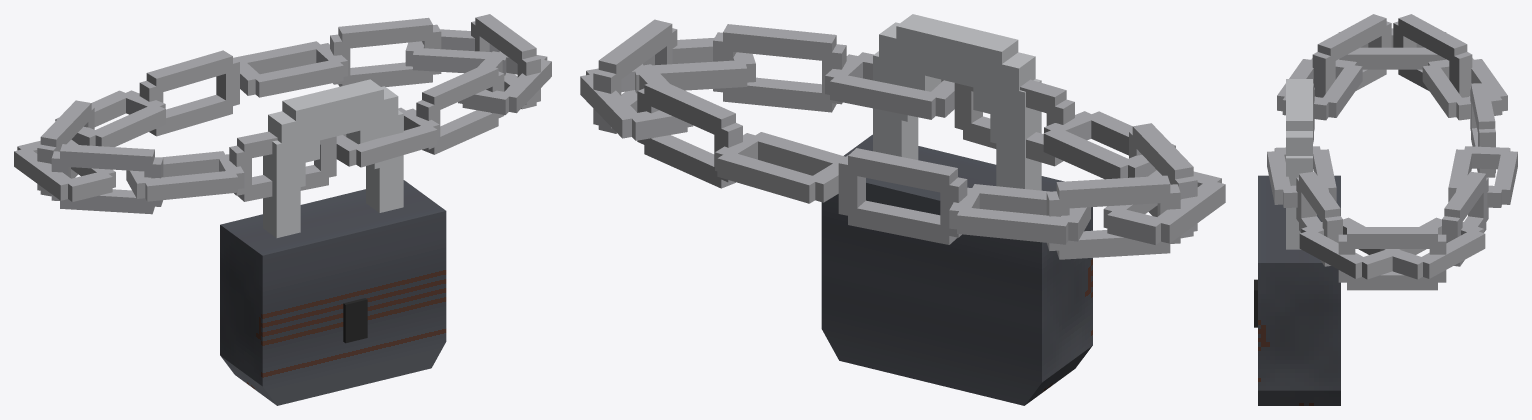
Rendered from gate_padlock.glb.
3 views of the same model, side by side, from view 1: azimuth 30°, elevation 25°; view 2: azimuth 150°, elevation 25°; view 3: azimuth 270°, elevation 25° (orthographic). The views are drawn at different scales.
Visible parts, largest first — view 1: Padlock, Chain; view 2: Chain, Padlock; view 3: Chain, Padlock.
Boxes of the visible parts, x1,y1,x2,y2 form: Padlock: (220,79,446,405); Chain: (14,14,551,214); Chain: (580,19,1225,259); Padlock: (821,14,1092,405); Chain: (1267,14,1517,290); Padlock: (1254,79,1340,405).
Bounding box in the file's own units: 0.2704 × 0.1438 × 0.1277.
4 materials, 1 textured.
